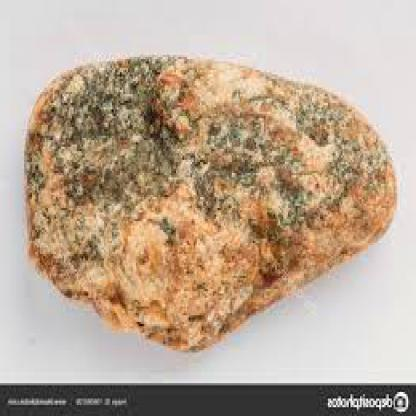Metamorphic_Quartize: (12, 40, 398, 352)
